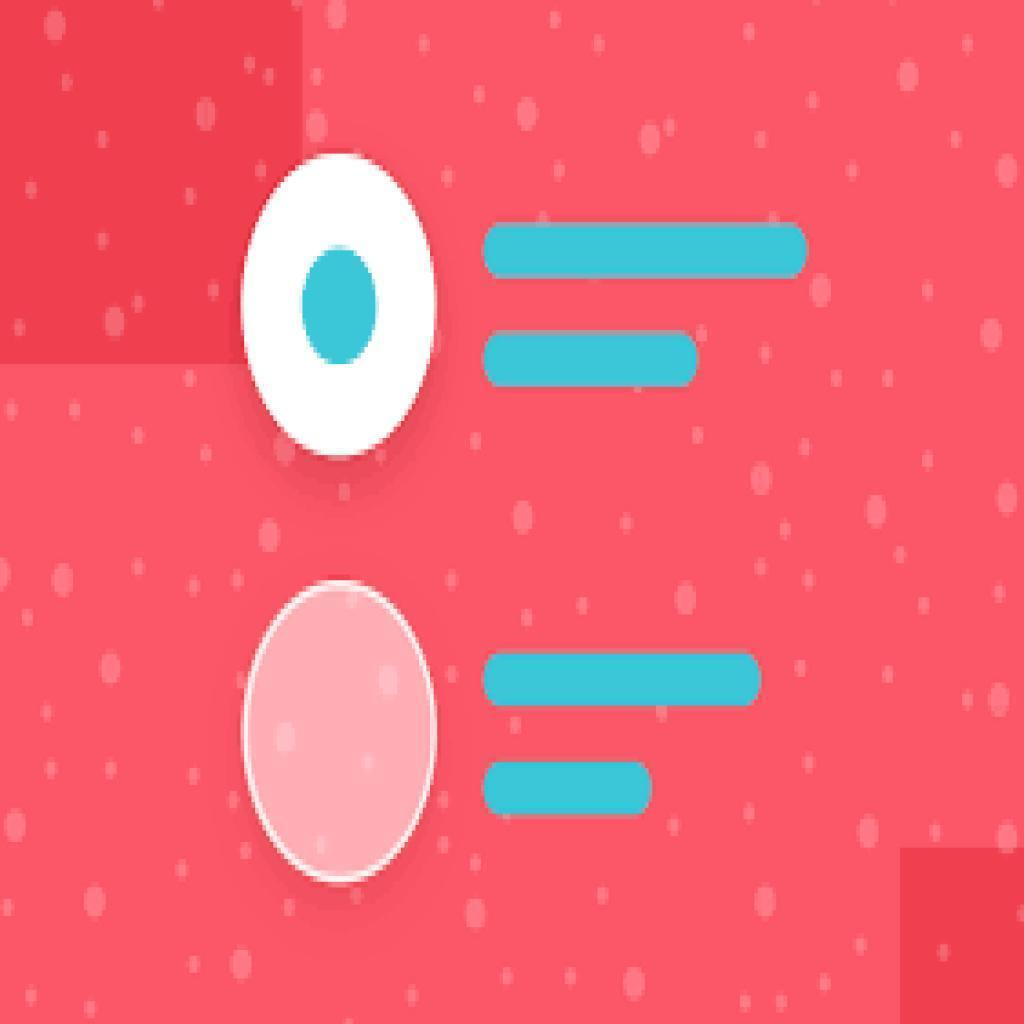radio: (241, 581, 437, 888), (244, 153, 439, 460)
